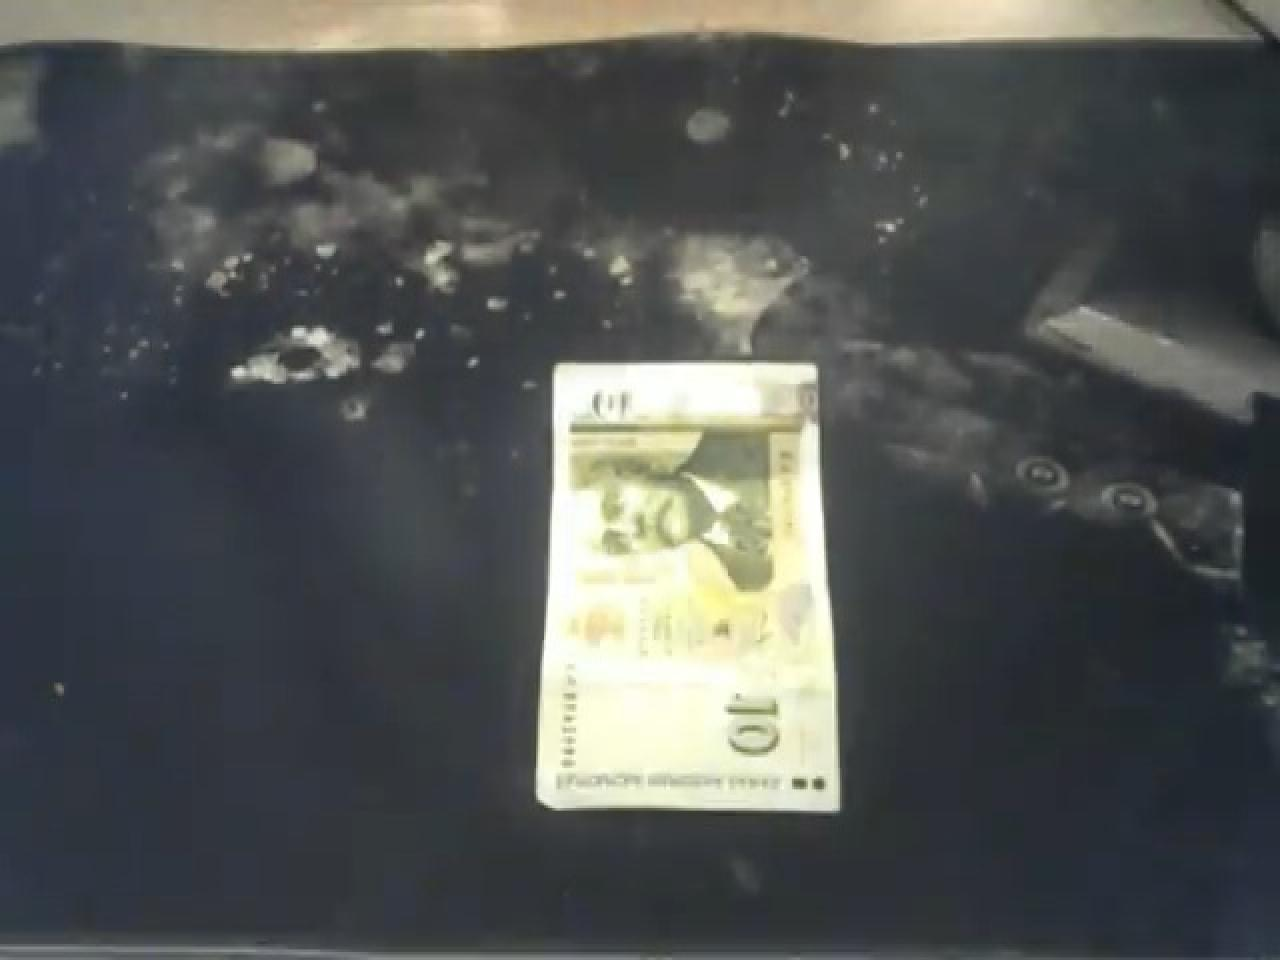10leva: (532, 360, 848, 821)
